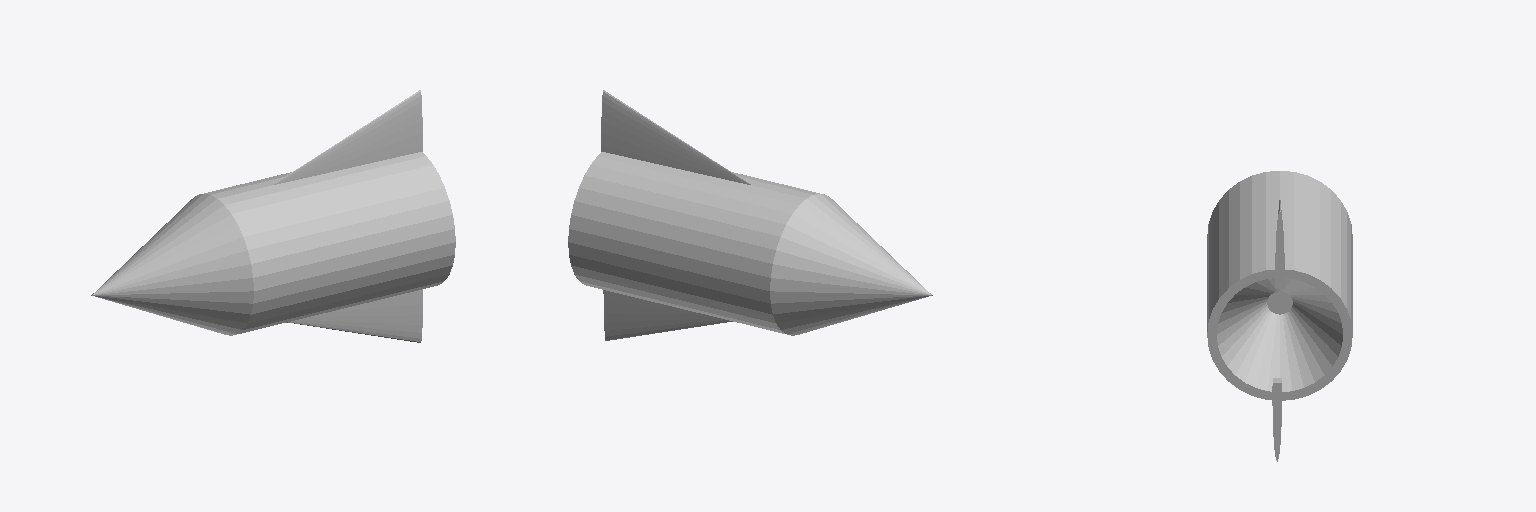
File: AngryRocket3.obj
3 renders of one model, left to right at view 1: azimuth 30°, elevation 25°; view 2: azimuth 150°, elevation 25°; view 3: azimuth 270°, elevation 25°, orthographic.
Visible parts, largest first — view 1: Cylinder; view 2: Cylinder; view 3: Cylinder.
Boxes of the visible parts, x1=… form: Cylinder: x1=91, y1=90, x2=455, y2=342; Cylinder: x1=568, y1=90, x2=932, y2=340; Cylinder: x1=1207, y1=171, x2=1352, y2=461.
Bounding box in the file's own units: 5.22 × 3.82 × 2.